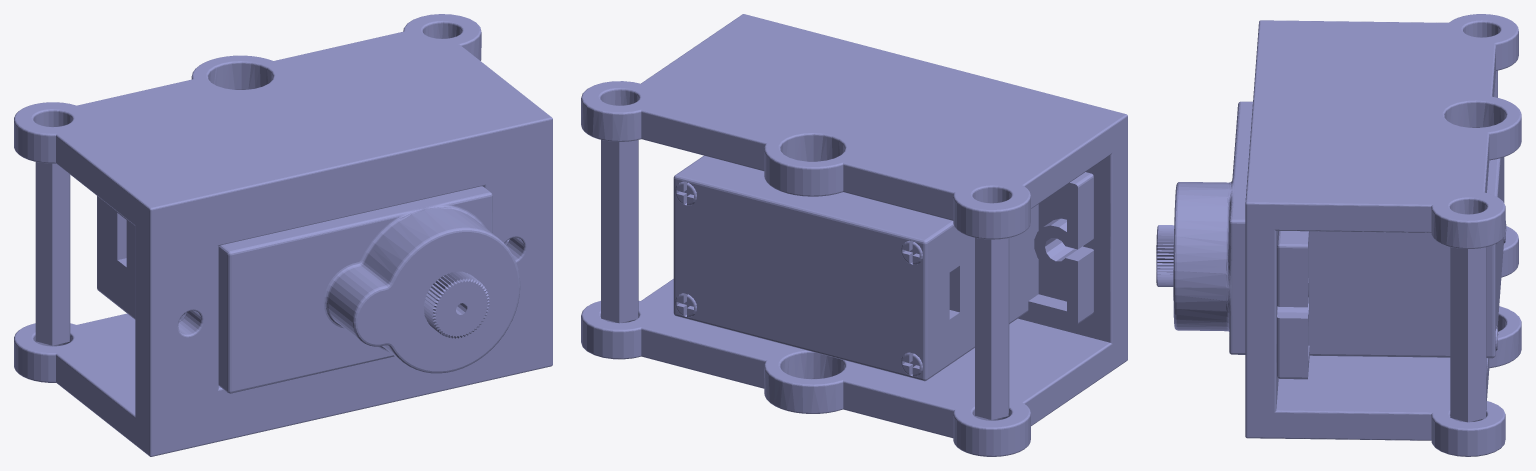
File: Link_muneca.dae
The picture shows the model from 3 angles, left to right: view 1: azimuth 30°, elevation 25°; view 2: azimuth 150°, elevation 25°; view 3: azimuth 270°, elevation 25°; orthographic projection. The views are drawn at different scales.
Parts seen in each view (by area): view 1: Link_muneca; view 2: Link_muneca; view 3: Link_muneca.
Boxes of the visible parts, x1,y1,x2,y2 form: Link_muneca: (14, 14, 552, 456); Link_muneca: (581, 14, 1127, 456); Link_muneca: (1156, 14, 1521, 456).
Size of the model in its own units: 0.0398 by 0.0295 by 0.021.
